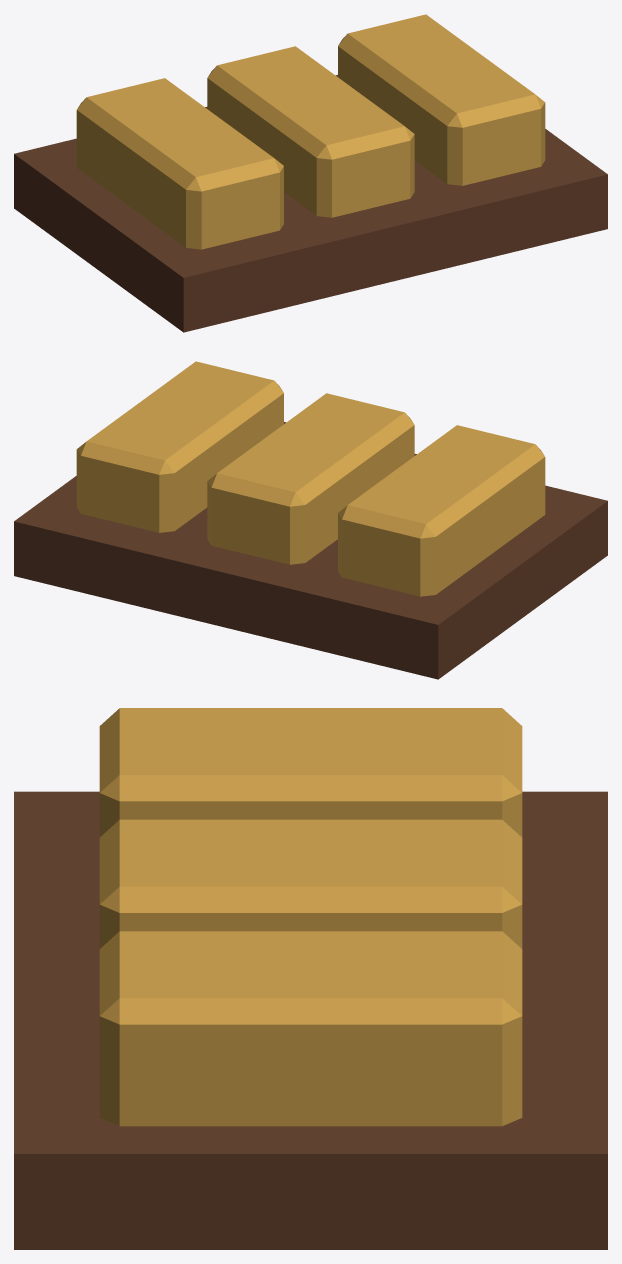
Rendered from gold_tray.fbx.
The picture shows the model from 3 angles, top to bottom: view 1: azimuth 30°, elevation 25°; view 2: azimuth 150°, elevation 25°; view 3: azimuth 270°, elevation 25°; orthographic projection. The views are drawn at different scales.
Visible parts, largest first — view 1: gold_tray.002; view 2: gold_tray.002; view 3: gold_tray.002.
Part boxes in pixels (<box>): gold_tray.002: <box>14,14,607,332</box>; gold_tray.002: <box>14,361,607,679</box>; gold_tray.002: <box>14,708,607,1249</box>.
Bounding box in the file's own units: 65 × 18 × 45.
